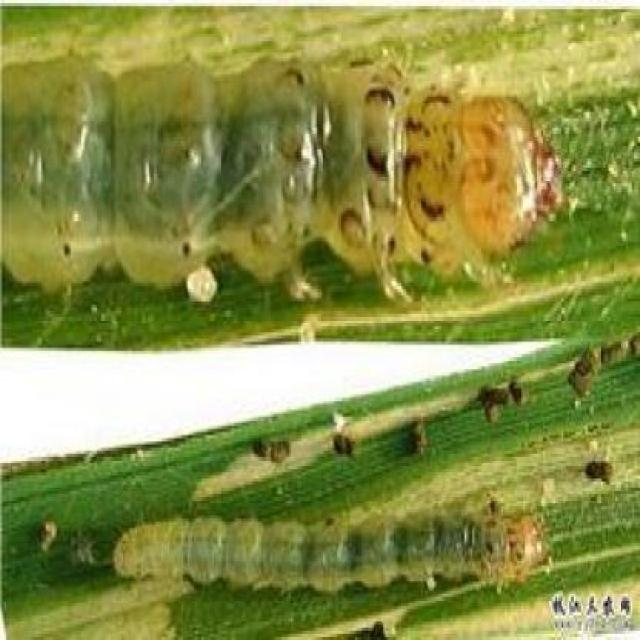leaf-folder: (16, 31, 573, 312), (81, 492, 564, 602)
